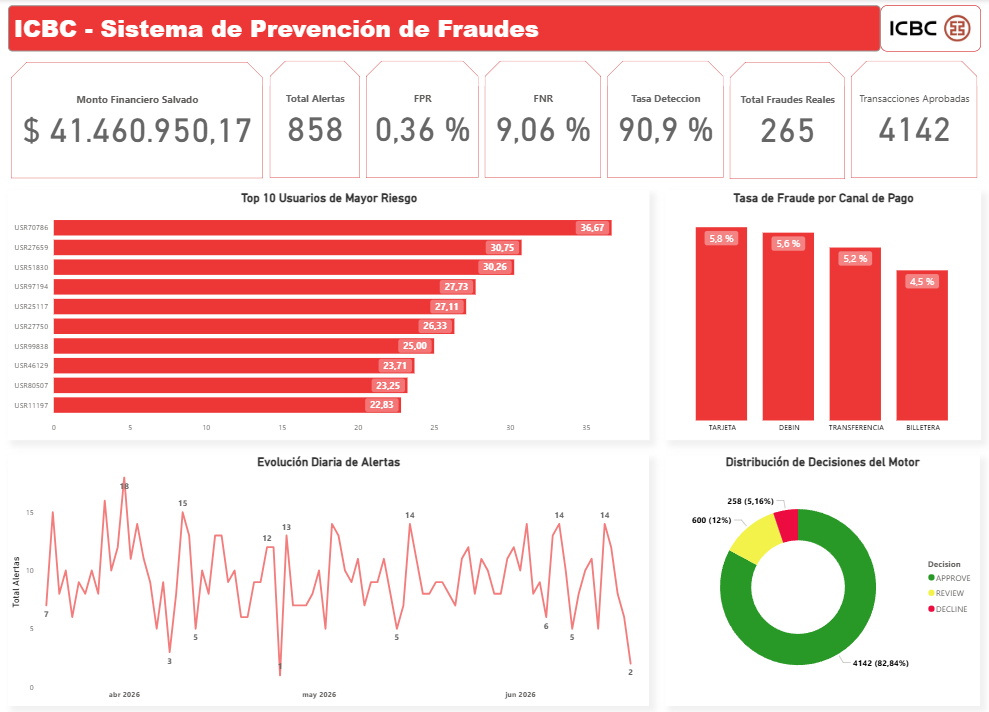

The dashboard page shown, as its layout file describes it:
{"tool":"powerbi","page":{"name":"Resumen Ejecutivo","canvas":[1600,1280],"ordinal":0},"visuals":[{"type":"cardVisual","fields":{"Data":["fact_transacciones.Monto Financiero Salvado"]},"box":[16.4,96.4,415,197.5],"z":0},{"type":"cardVisual","fields":{"Data":["fact_transacciones.Total Alertas"]},"box":[431.4,95.2,155,198.8],"z":1000},{"type":"cardVisual","fields":{"Data":["fact_transacciones.FPR"]},"box":[586.4,95.2,191.2,198.8],"z":2000},{"type":"cardVisual","fields":{"Data":["fact_transacciones.FNR"]},"box":[777.7,95.2,197.5,198.8],"z":3000},{"type":"clusteredColumnChart","title":"Tasa de Fraude por Canal de Pago","fields":{"Category":["fact_transacciones.canal"],"Y":["fact_transacciones.Tasa Fraude %"]},"box":[1072.9,307.1,507.1,401.4],"z":5000},{"type":"image","box":[1418.6,10,161.4,74.3],"z":6000},{"type":"textbox","box":[15.7,10,1402.9,74.3],"z":7000},{"type":"lineChart","title":"Evolución Diaria de Alertas","fields":{"Y":["fact_transacciones.Total Alertas"],"Category":["fact_transacciones.Fecha Sin Hora"]},"box":[15.7,734.3,1031.4,402.9],"z":8000},{"type":"donutChart","title":"Distribución de Decisiones del Motor","fields":{"Category":["fact_transacciones.decision"],"Y":["fact_transacciones.Total Transacciones"]},"box":[1074.3,734.3,505.7,402.9],"z":9000},{"type":"barChart","title":"Top 10 Usuarios de Mayor Riesgo","fields":{"Category":["fact_transacciones.id_usuario"],"Y":["fact_transacciones.Promedio Score Usuario"]},"box":[15.7,307.1,1031.4,401.4],"z":10000},{"type":"cardVisual","fields":{"Data":["fact_transacciones.Tasa Deteccion"]},"box":[975.2,95.2,197.5,198.8],"z":11000},{"type":"cardVisual","fields":{"Data":["fact_transacciones.Total Fraudes Reales"]},"box":[1172.7,96.4,195,198.8],"z":12000},{"type":"cardVisual","fields":{"Data":["fact_transacciones.Transacciones Aprobadas"]},"box":[1367.7,95.2,213.8,198.8],"z":13000}]}

Visuals, with their boxes on the page's 1600x1280 design canvas (x1, y1, x2, y2). These are canvas units, not pixel positions in the 989x712 screenshot, which may show the page scaled, cropped or inside an application window:
cardVisual - fact_transacciones.Monto Financiero Salvado: [16,96,431,294]
cardVisual - fact_transacciones.Total Alertas: [431,95,586,294]
cardVisual - fact_transacciones.FPR: [586,95,778,294]
cardVisual - fact_transacciones.FNR: [778,95,975,294]
"Tasa de Fraude por Canal de Pago" clusteredColumnChart: [1073,307,1580,708]
image: [1419,10,1580,84]
textbox: [16,10,1419,84]
"Evolución Diaria de Alertas" lineChart: [16,734,1047,1137]
"Distribución de Decisiones del Motor" donutChart: [1074,734,1580,1137]
"Top 10 Usuarios de Mayor Riesgo" barChart: [16,307,1047,708]
cardVisual - fact_transacciones.Tasa Deteccion: [975,95,1173,294]
cardVisual - fact_transacciones.Total Fraudes Reales: [1173,96,1368,295]
cardVisual - fact_transacciones.Transacciones Aprobadas: [1368,95,1582,294]
